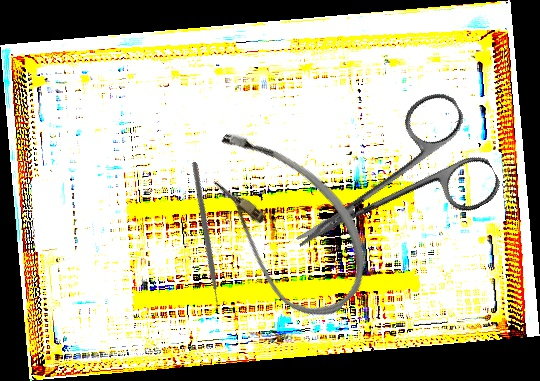Cannula: (169, 110, 396, 335)
Chopper: (126, 161, 278, 316)
Iris Scissors: (266, 84, 506, 293)
